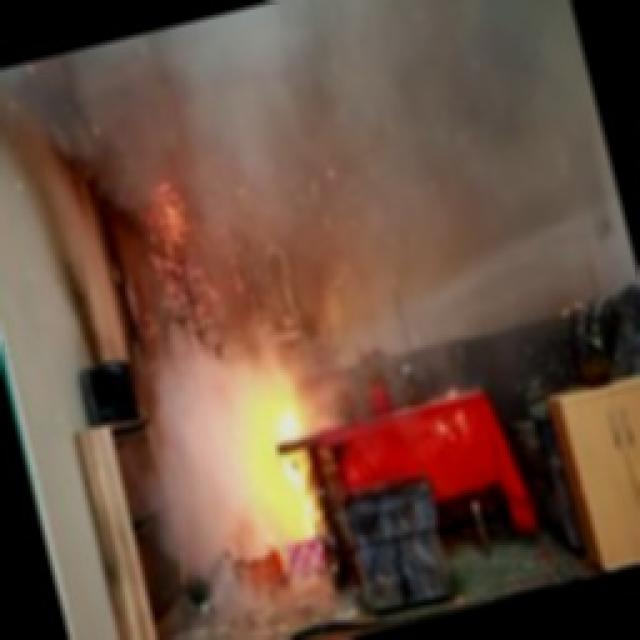fire: (205, 339, 353, 561)
